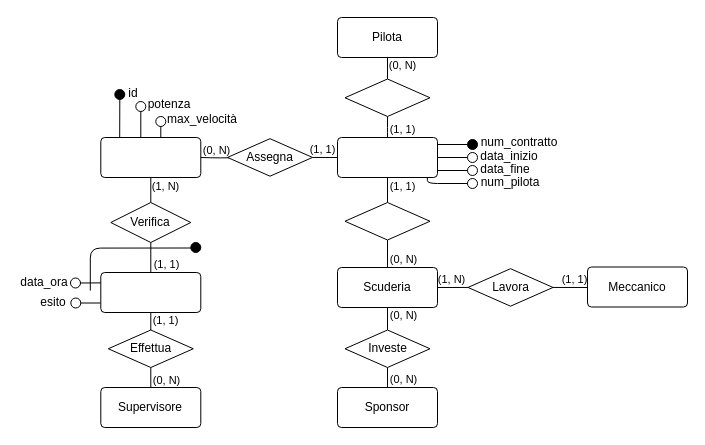
The diagram is 705 pixels wide and 445 high, and some of its shapes have lost their labels. Each missing label, with the box of its shape:
Auto: (100, 136, 201, 178)
Contratto: (336, 136, 438, 178)
Controllo: (100, 272, 201, 312)
Emette: (344, 202, 430, 240)
Stipula: (344, 78, 430, 116)
